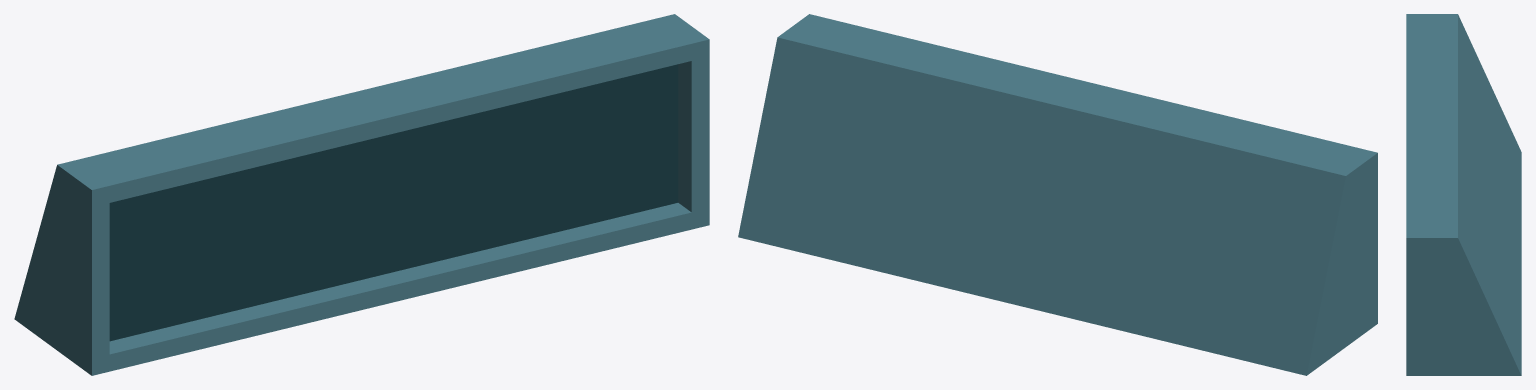
Rendered from bus_screen_mdl.fbx.
3 views of the same model, side by side, from view 1: azimuth 30°, elevation 25°; view 2: azimuth 150°, elevation 25°; view 3: azimuth 270°, elevation 25° (orthographic). The views are drawn at different scales.
Parts seen in each view (by area): view 1: bus_screen_mdl; view 2: bus_screen_mdl; view 3: bus_screen_mdl.
Part boxes in pixels (bbox=[...]): bus_screen_mdl: bbox=[14, 14, 709, 375]; bus_screen_mdl: bbox=[738, 14, 1377, 375]; bus_screen_mdl: bbox=[1406, 14, 1521, 375].
Bounding box in the file's own units: 0.6969 × 0.2003 × 0.1514.
